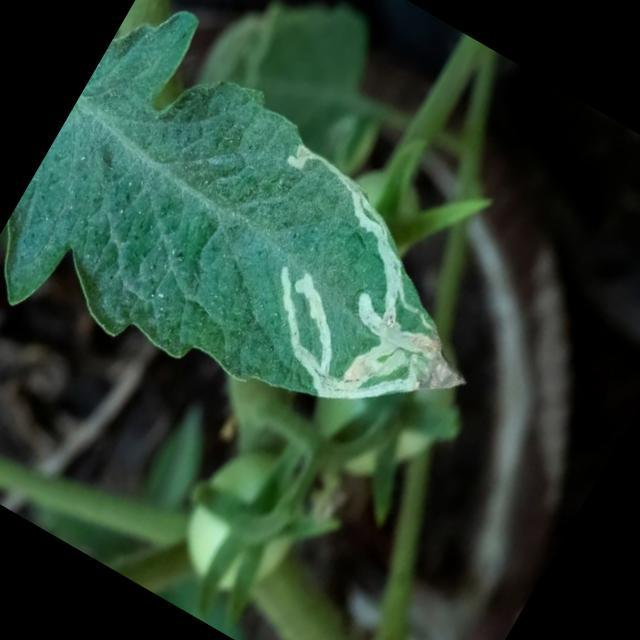Tomato target spot leaf: (0, 0, 560, 524)
